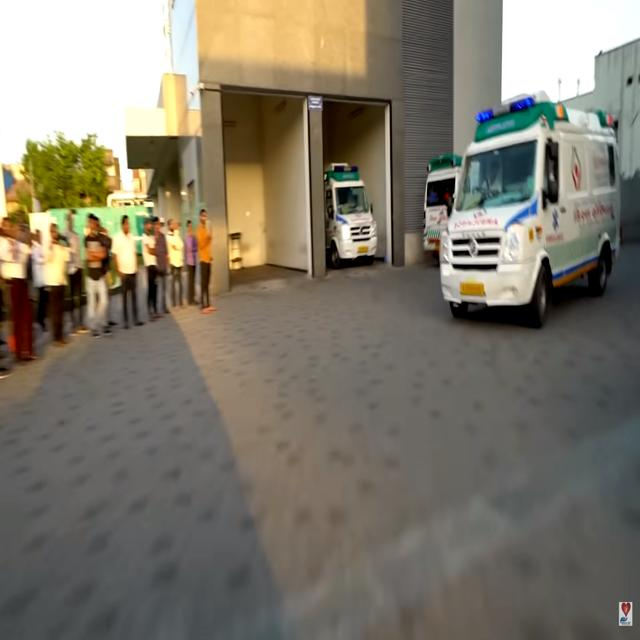emergency-vehicles: (436, 92, 628, 332), (322, 154, 394, 271)
